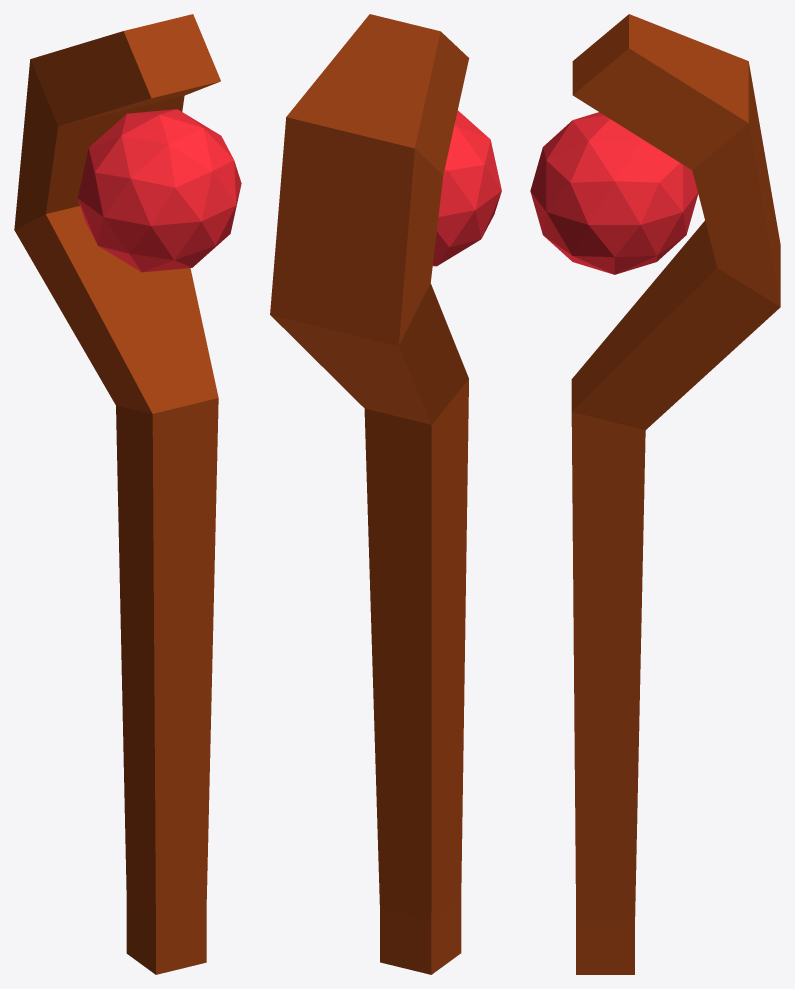
Rendered from magic_staff.fbx.
3 views of the same model, side by side, from view 1: azimuth 30°, elevation 25°; view 2: azimuth 150°, elevation 25°; view 3: azimuth 270°, elevation 25° (orthographic).
Visible parts, largest first — view 1: Cube; view 2: Cube; view 3: Cube.
Part boxes in pixels (x1,y1,x2,y2): Cube: [14, 14, 241, 974]; Cube: [270, 14, 501, 974]; Cube: [530, 14, 780, 974].
Size of the model in its own units: 0.5678 by 3.64 by 0.8853.
